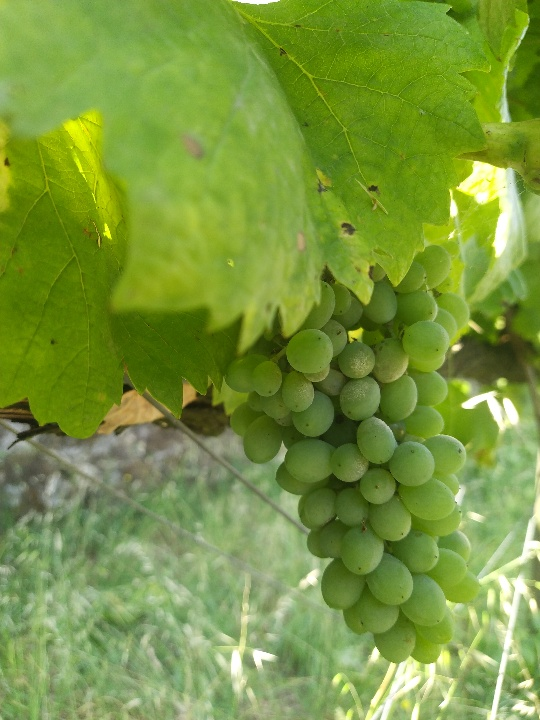grape: (218, 241, 487, 672)
